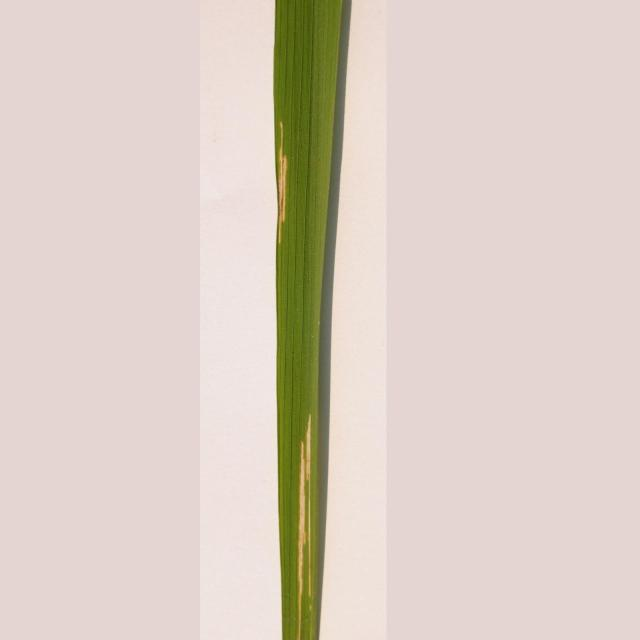Bacterial leaf blight: (198, 0, 390, 640)
